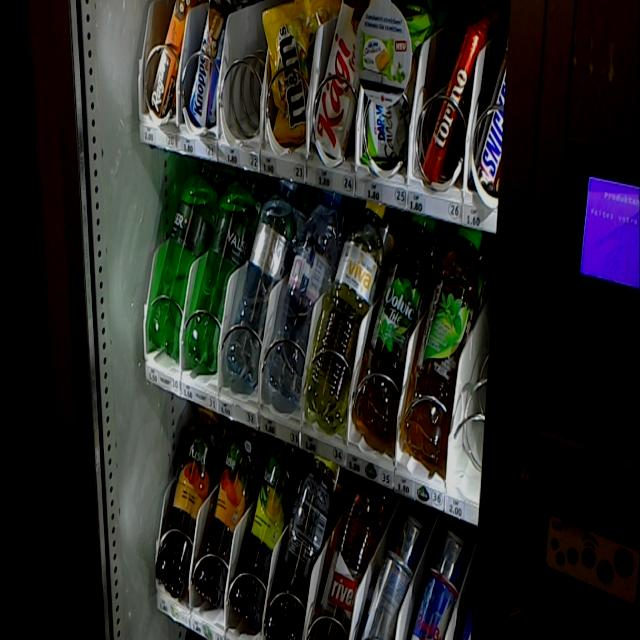darwida_sandwich____7610032065170: (363, 16, 427, 162)
evian___50__3068320353500: (282, 187, 340, 393)
fuse_lemon__50__5449000235947: (279, 456, 336, 638), (246, 438, 298, 616)
fuse_peach__50__5449000236623: (160, 407, 216, 586), (209, 421, 260, 600)
kagi___50__7610046000259: (316, 1, 364, 153)
knoppers_riegel____4035800488808: (188, 0, 230, 128)
mnms_gelb__45__40111445: (266, 6, 310, 146)
ragusa___50__76401121: (148, 0, 189, 131)
redbull___33__90162909: (414, 571, 460, 639)
rivella_rot__50__7610097111072: (320, 476, 377, 639)
torino___46__76415272: (423, 28, 480, 175)
valser_classic__50__76404160: (199, 170, 257, 368), (156, 168, 214, 352)
valser_still__50__7610335002575: (244, 179, 296, 379)
valser_vivabirne__50__7610335001530: (324, 196, 384, 428)
volvic_teeminze__50__3057640335648: (416, 226, 478, 457), (372, 212, 433, 434)
